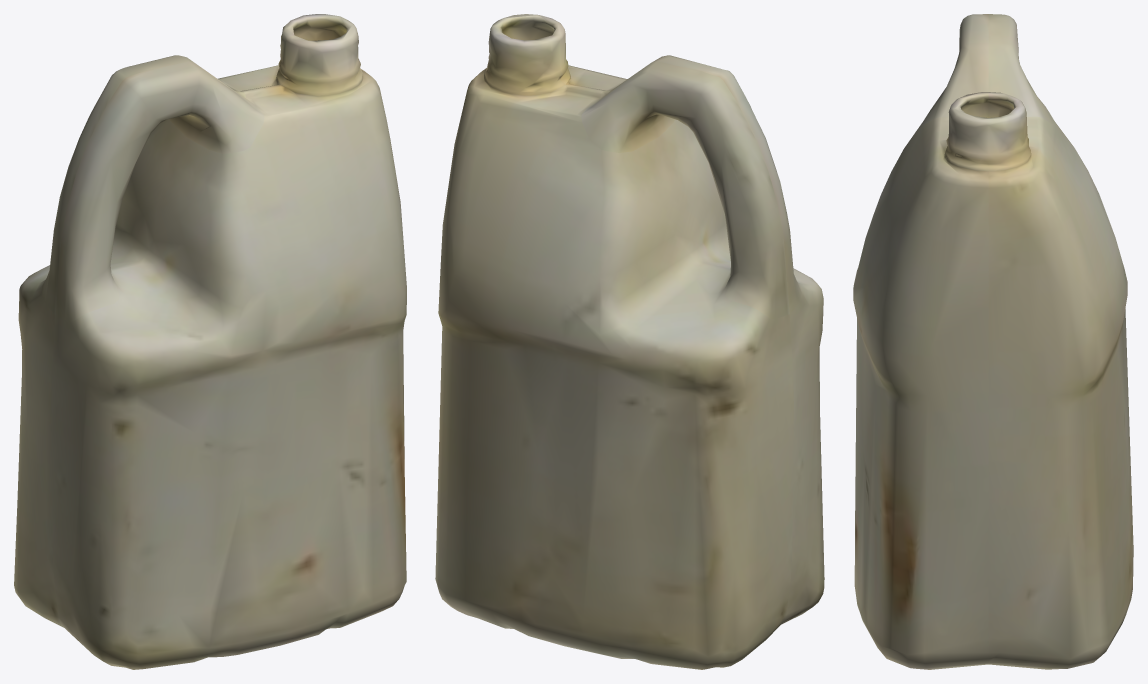
Rendered from gallon.glb.
The picture shows the model from 3 angles, left to right: view 1: azimuth 30°, elevation 25°; view 2: azimuth 150°, elevation 25°; view 3: azimuth 270°, elevation 25°; orthographic projection.
Parts seen in each view (by area): view 1: plastic_bottle_gallon; view 2: plastic_bottle_gallon; view 3: plastic_bottle_gallon.
Part boxes in pixels (x1,y1,x2,y2): plastic_bottle_gallon: (14,14,406,669); plastic_bottle_gallon: (435,14,824,669); plastic_bottle_gallon: (853,14,1133,669).
Size of the model in its own units: 0.1661 by 0.2745 by 0.126.
Materials: 1 (1 with a texture image).
